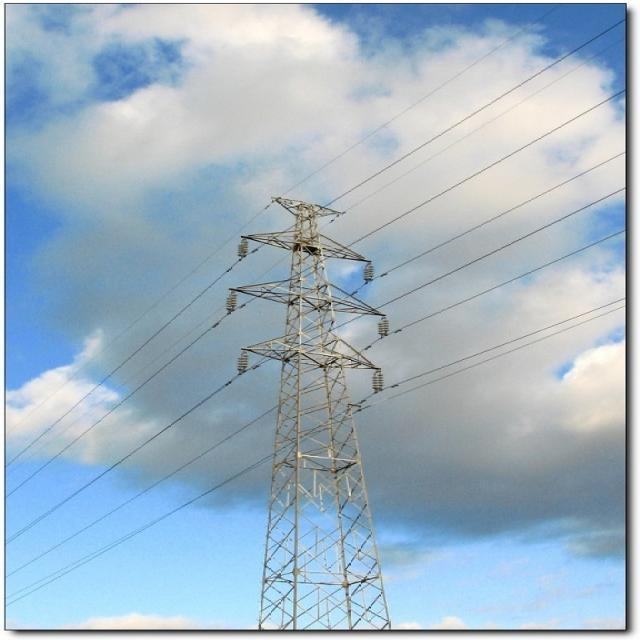non-critical vegetation: (208, 190, 412, 626)
